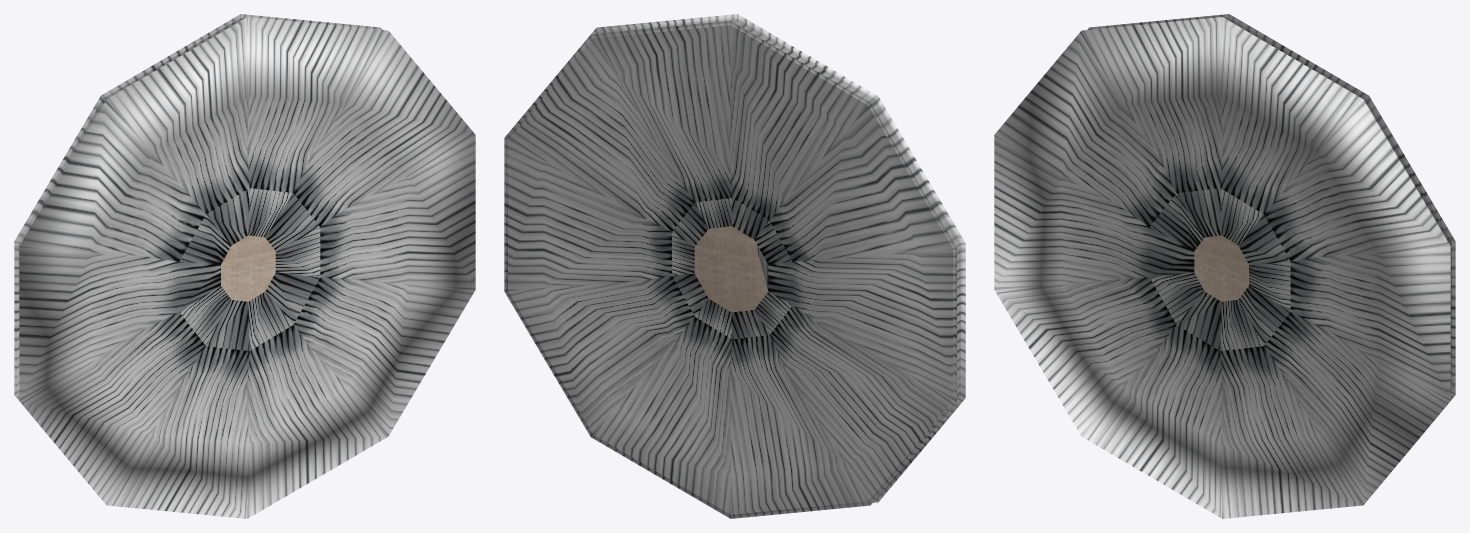
Rendered from back_penas.dae.
3 renders of one model, left to right at view 1: azimuth 30°, elevation 25°; view 2: azimuth 150°, elevation 25°; view 3: azimuth 330°, elevation 25°, orthographic.
Visible parts, largest first — view 1: Cilindro; view 2: Cilindro; view 3: Cilindro.
Boxes of the visible parts, bbox=[...] form: Cilindro: bbox=[14, 14, 475, 518]; Cilindro: bbox=[504, 14, 965, 518]; Cilindro: bbox=[994, 14, 1455, 518].
Size of the model in its own units: 2.32 by 0.0864 by 2.44.
